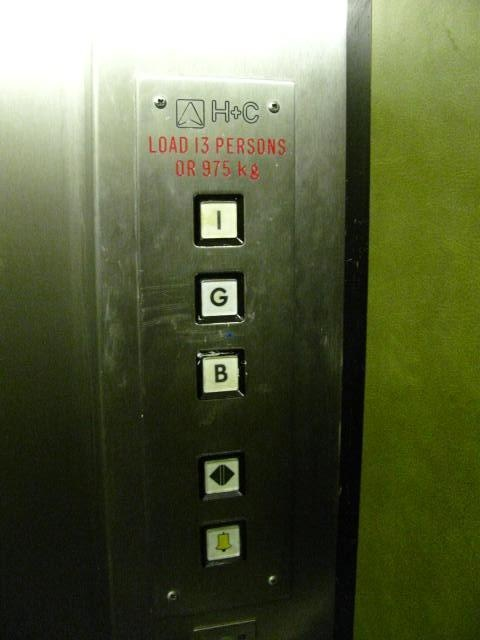1: (190, 188, 249, 251)
B: (193, 344, 250, 403)
G: (190, 268, 250, 328)
alarm: (196, 515, 249, 575)
open: (196, 448, 246, 508)
